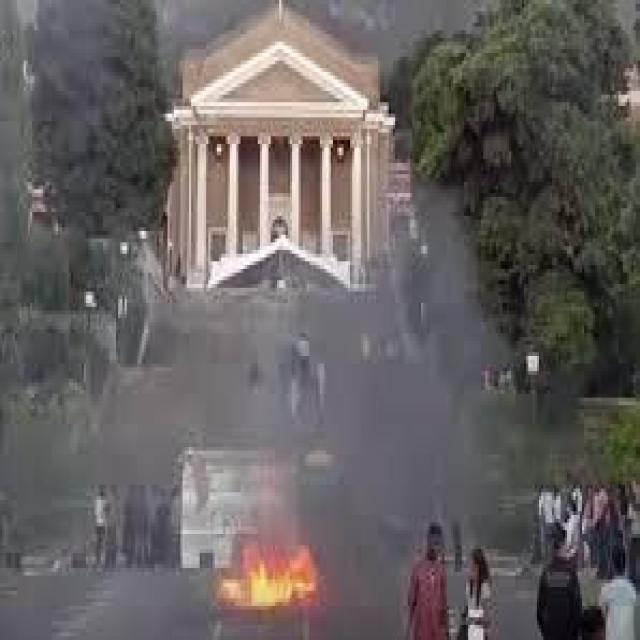fire: (178, 488, 353, 626)
smoke: (110, 134, 515, 484)
